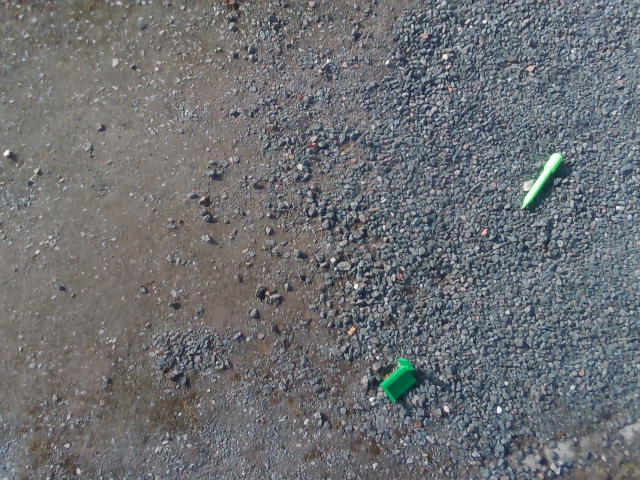Probe: (517, 149, 565, 212)
